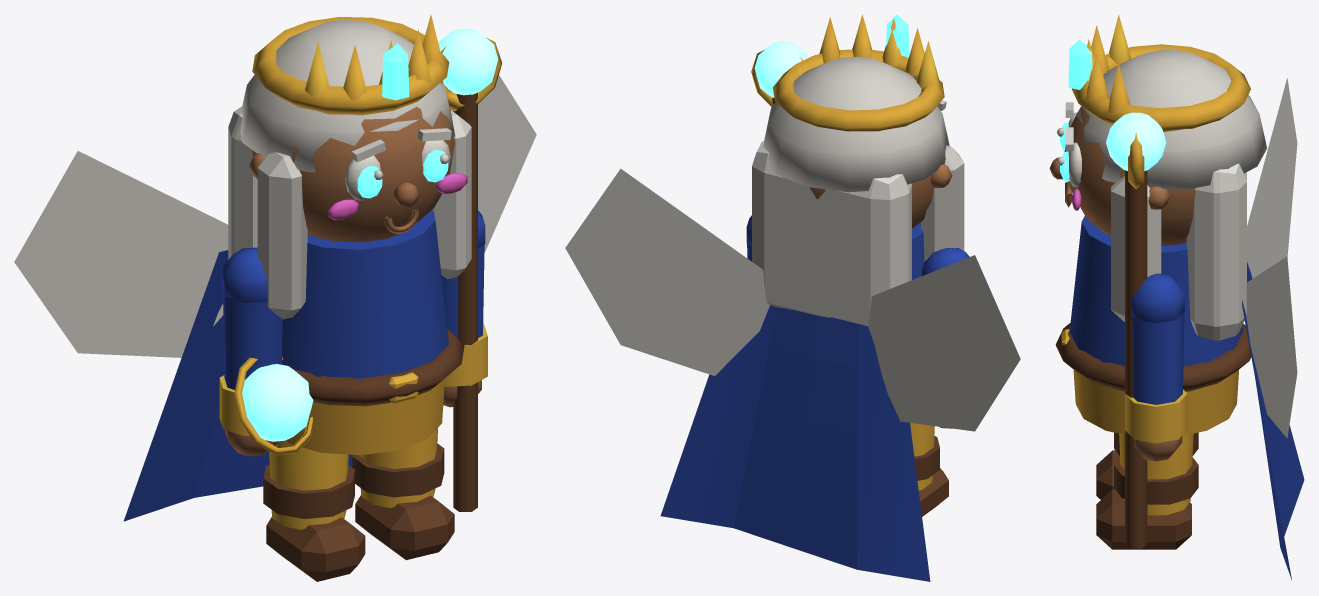
Rendered from hero_azura.glb.
3 renders of one model, left to right at view 1: azimuth 30°, elevation 25°; view 2: azimuth 150°, elevation 25°; view 3: azimuth 270°, elevation 25°, orthographic. The views are drawn at different scales.
Visible parts, largest first — view 1: body_t0_palette, legl_t0_palette, armr_t0_palette, legr_t0_palette, arml_t0_palette, arml_t0_rune, armr_t0_rune, body_t0_crystal; view 2: body_t0_palette, legl_t0_palette, armr_t0_rune, arml_t0_palette, body_t0_crystal; view 3: body_t0_palette, armr_t0_palette, legr_t0_palette, armr_t0_rune, body_t0_crystal, legl_t0_palette.
Boxes of the visible parts, <box> form: body_t0_palette: <box>14,14,536,521</box>; legl_t0_palette: <box>263,440,365,581</box>; armr_t0_palette: <box>440,37,502,511</box>; legr_t0_palette: <box>352,428,454,560</box>; arml_t0_palette: <box>219,247,313,456</box>; arml_t0_rune: <box>242,364,313,441</box>; armr_t0_rune: <box>438,28,498,95</box>; body_t0_crystal: <box>357,43,448,198</box>; body_t0_palette: <box>565,14,1020,581</box>; legl_t0_palette: <box>910,423,948,516</box>; armr_t0_rune: <box>754,41,807,97</box>; arml_t0_palette: <box>922,248,969,428</box>; body_t0_crystal: <box>886,14,909,57</box>; body_t0_palette: <box>1049,14,1304,579</box>; armr_t0_palette: <box>1125,132,1187,548</box>; legr_t0_palette: <box>1096,433,1198,549</box>; armr_t0_rune: <box>1106,112,1166,170</box>; body_t0_crystal: <box>1060,39,1092,181</box>; legl_t0_palette: <box>1096,432,1198,499</box>.
Size of the model in its own units: 0.54 by 0.53 by 0.253.
